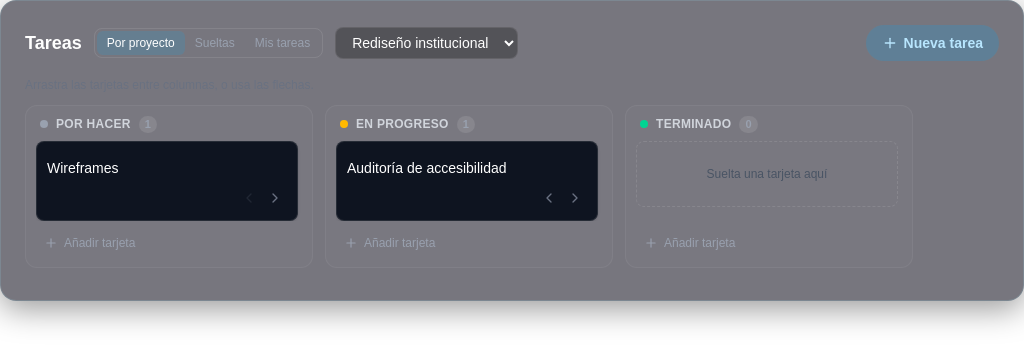
Test case: TasksSection › shows only project-less tasks in the 'Sueltas' view
The width and height of the screenshot is (1024, 346).
Click the button "Sueltas": x=215, y=43 [185,31,245,55]
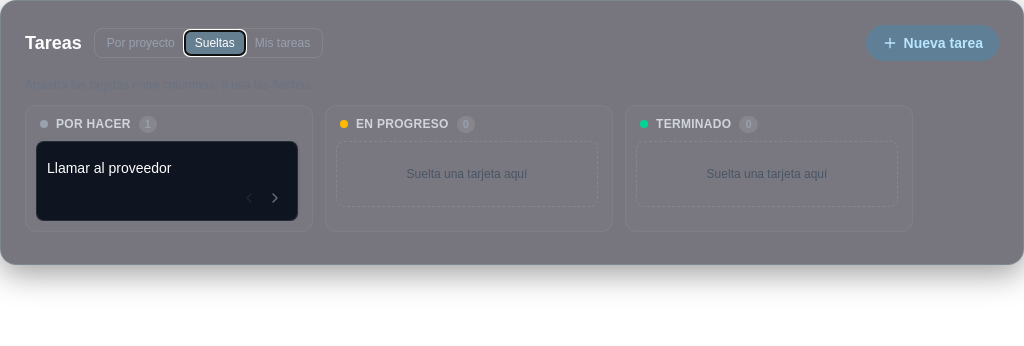
Check: the text "Llamar al proveedor" is shown, box [47,160,172,176]
Check: the text "Wireframes" is gone
